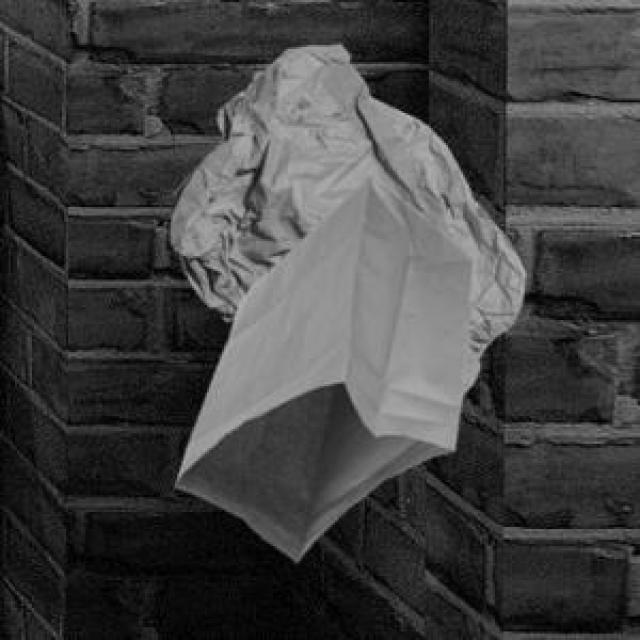paper: (166, 41, 521, 395), (173, 175, 469, 557)
